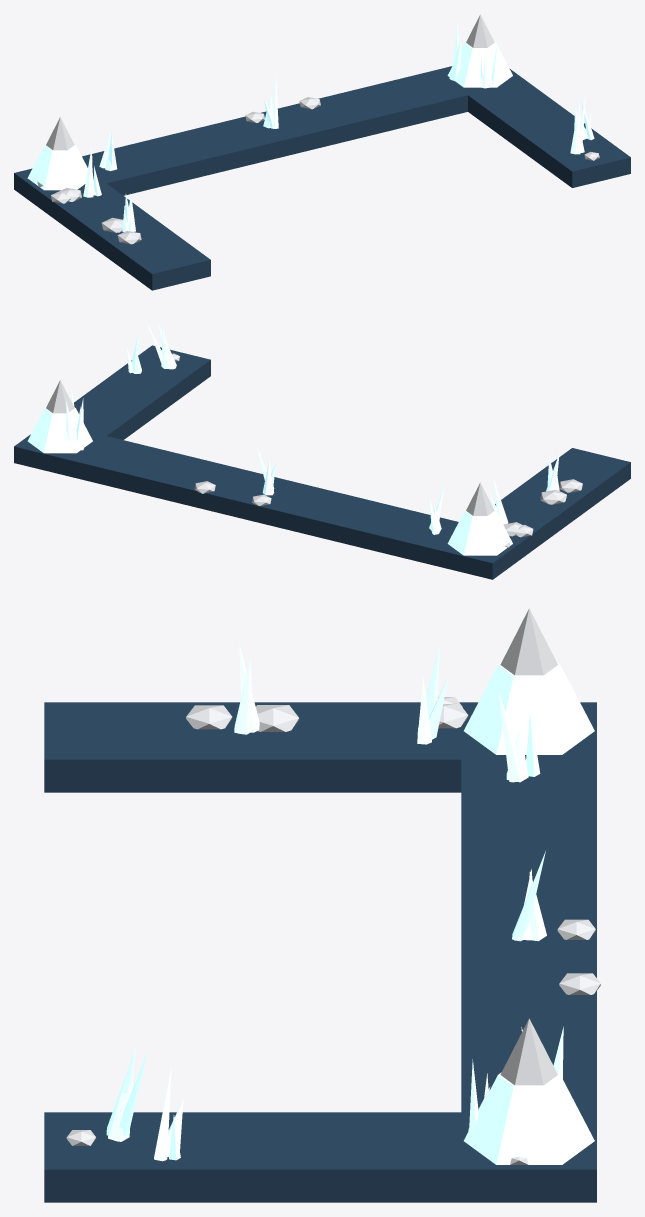
The model's file is glacier.glb.
3 renders of one model, top to bottom at view 1: azimuth 30°, elevation 25°; view 2: azimuth 150°, elevation 25°; view 3: azimuth 270°, elevation 25°, orthographic. The views are drawn at different scales.
Parts seen in each view (by area): view 1: field_glacier; view 2: field_glacier; view 3: field_glacier.
Part boxes in pixels (<box>): field_glacier: <box>14,14,630,290</box>; field_glacier: <box>14,320,630,579</box>; field_glacier: <box>44,608,600,1202</box>.
Size of the model in its own units: 10.61 by 1.65 by 5.34.
